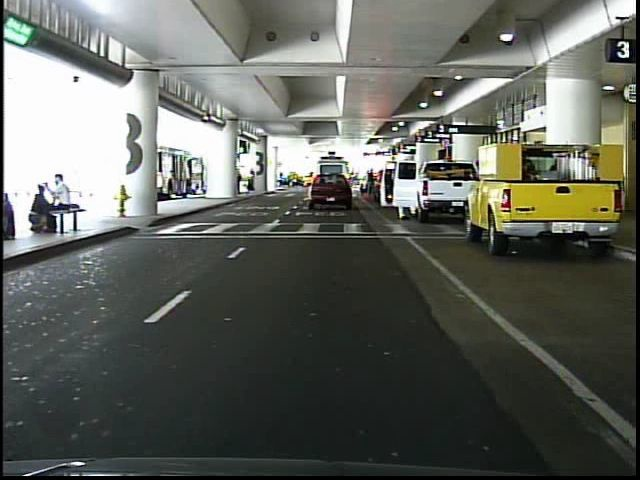person: (247, 167, 259, 194)
